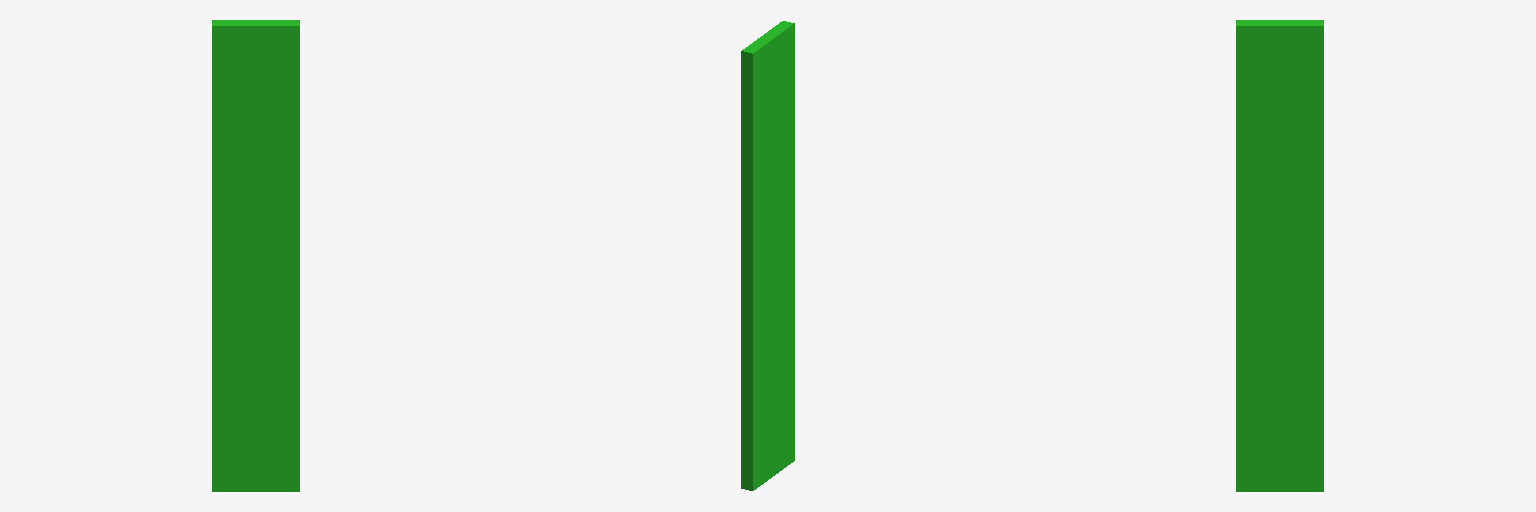
URDF robot description (board):
<?xml version="1.0" ?>
<robot name="board">
  <link name="board">
    <visual>
      <geometry>
        <box size=".008 .05 .29"/>
      </geometry>
      <material name="green-50">
        <color rgba="0.2 0.8 0.2 0.5"/>
      </material>
    </visual>
    <collision>
      <geometry>
        <box size=".008 .05 .29"/>
      </geometry>
    </collision>
    <inertial>
      <mass value="0.2"/>
      <inertia ixx="1" ixy="0" ixz="0" iyy="1.3" iyz="0" izz="0.5"/>
    </inertial>
  </link>
</robot>

--- Render facts (derived) ---
3 views of the same robot in one strip: view 1: azimuth 90°, elevation 25°; view 2: azimuth 150°, elevation 25°; view 3: azimuth 270°, elevation 25° (orthographic).
Robot: board — 1 links, 0 joints (none); root link board; default pose: every joint at zero.
Visible links, largest first — view 1: board; view 2: board; view 3: board.
Link boxes in pixels (x1=…): board: x1=212, y1=20, x2=299, y2=491; board: x1=741, y1=21, x2=794, y2=490; board: x1=1236, y1=20, x2=1323, y2=491.
Size in the robot's own frame: 0.008 by 0.05 by 0.29 metres.
Geometry: primitives only (box / cylinder / sphere), no mesh files.
